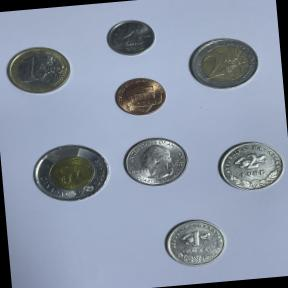1 Euro: (1, 42, 76, 97)
2 Euro: (183, 32, 265, 94)
Canda-10cent-: (102, 15, 162, 58)
Canda-2Dollar-: (28, 140, 114, 206)
Croatia-2Kune-: (214, 136, 288, 196)
US-1cent-: (112, 73, 172, 120)
US-25cent-: (118, 132, 196, 190)
